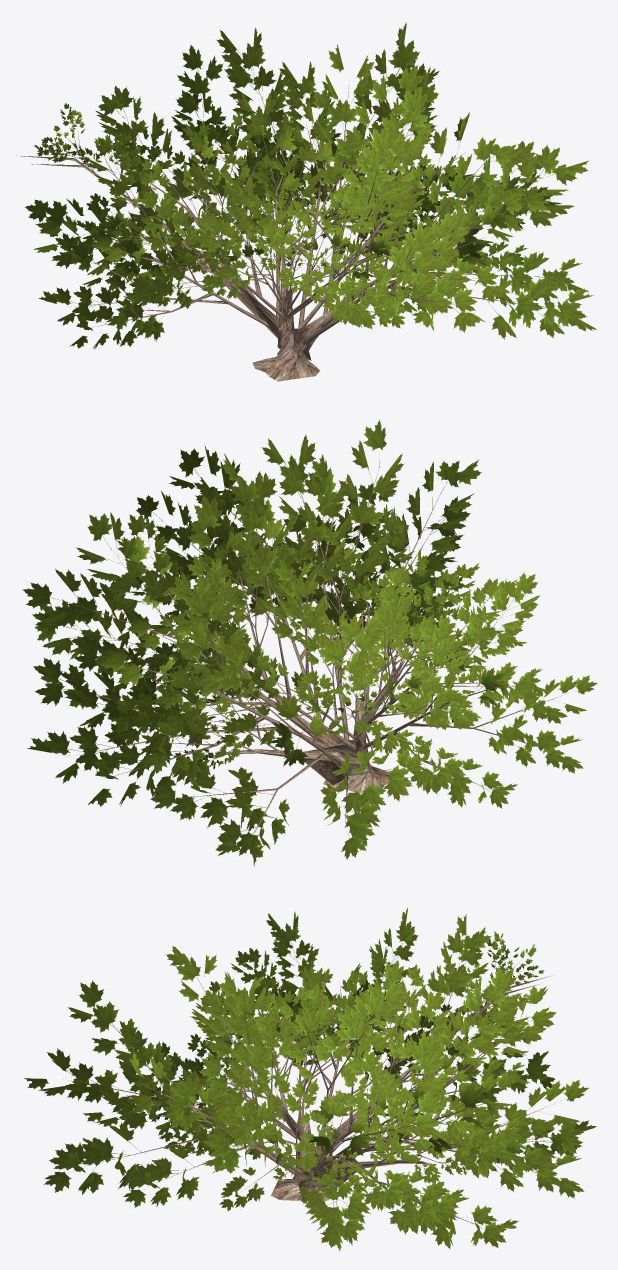
Rendered from bush14.obj.
3 views of the same model, one above another, from view 1: azimuth 30°, elevation 25°; view 2: azimuth 150°, elevation 25°; view 3: azimuth 270°, elevation 25° (orthographic). The views are drawn at different scales.
Parts seen in each view (by area): view 1: leaf maple, bark02; view 2: leaf maple, bark02; view 3: leaf maple, bark02.
Boxes of the visible parts, x1,y1,x2,y2 form: leaf maple: (25,22,596,349); bark02: (16,70,558,381); leaf maple: (22,419,597,866); bark02: (70,474,560,846); leaf maple: (24,908,596,1251); bark02: (68,947,556,1226).
Size of the model in its own units: 290 by 152 by 295.
Materials: 2 (2 with a texture image).
